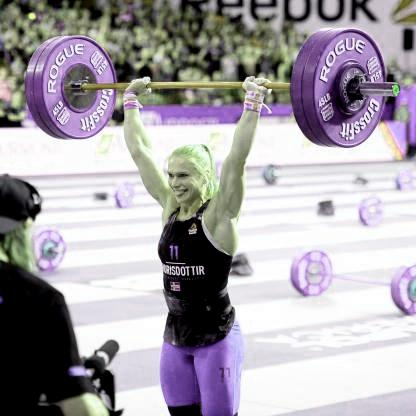barbell: (313, 28, 387, 148), (41, 36, 118, 141)
